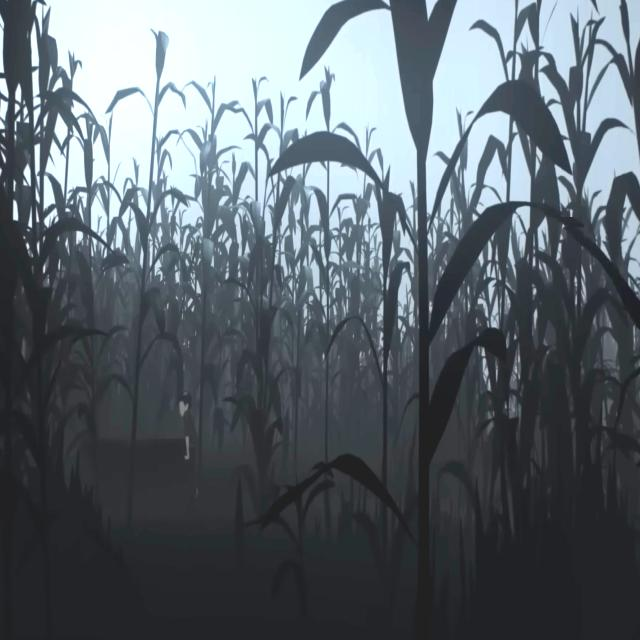boy: (179, 390, 202, 503)
